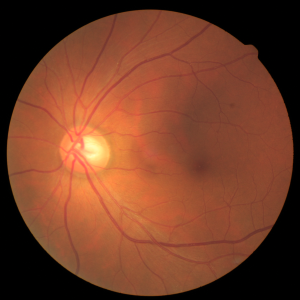glaucoma: (41, 101, 225, 215)
